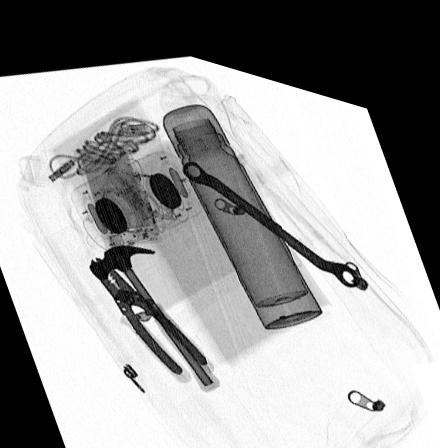Hammer: (88, 236, 221, 378)
Pliers: (89, 251, 214, 370)
Powerbank: (73, 126, 161, 242)
Wrench: (181, 149, 361, 266)
